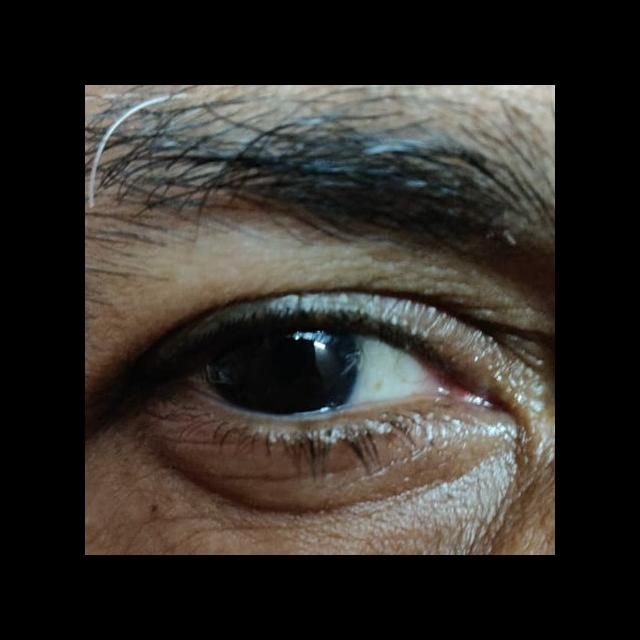eye: (179, 326, 440, 420)
iris: (204, 329, 359, 415)
